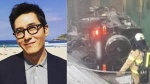male: (10, 4, 62, 66)
